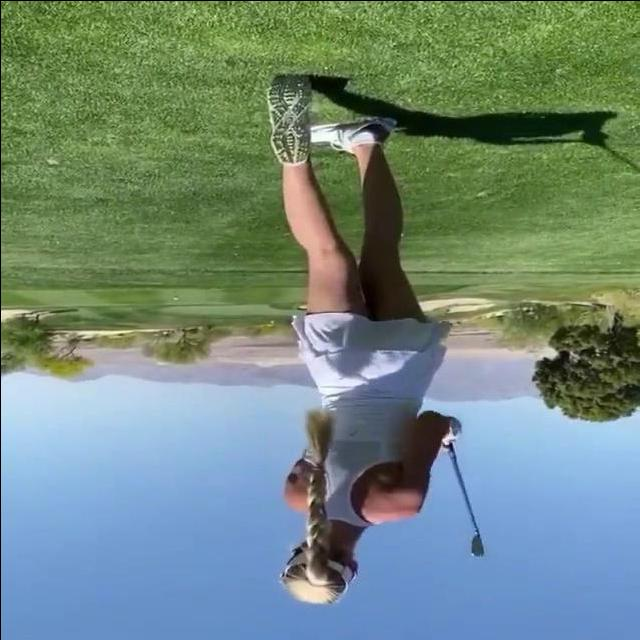golf club-handle: (449, 444, 484, 557)
golf club-head: (470, 534, 484, 558)
